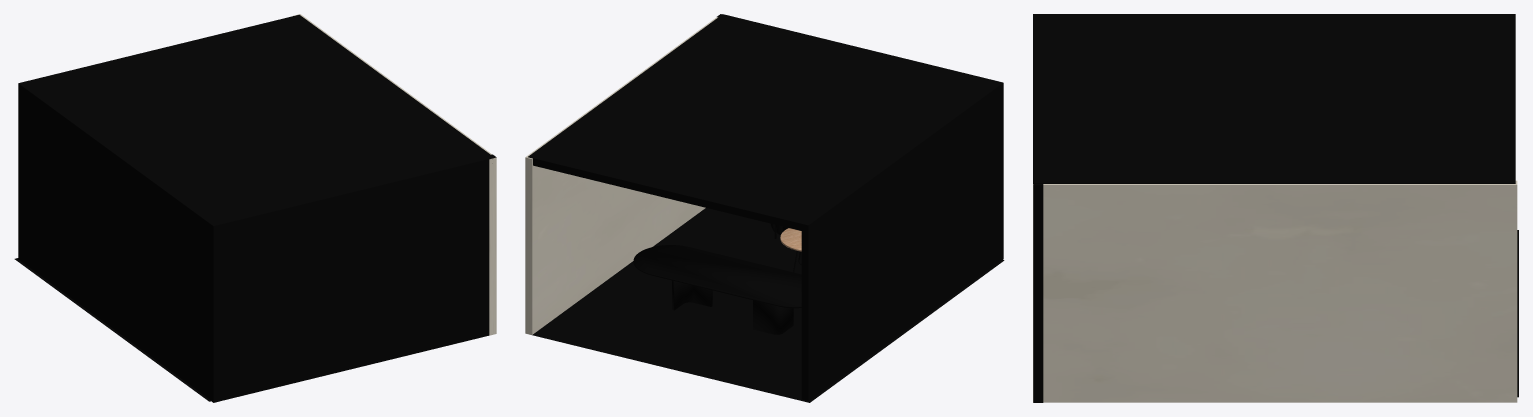
File: AidaRoom.fbx
The picture shows the model from 3 angles, left to right: view 1: azimuth 30°, elevation 25°; view 2: azimuth 150°, elevation 25°; view 3: azimuth 270°, elevation 25°; orthographic projection. The views are drawn at different scales.
Parts seen in each view (by area): view 1: Cube.003; view 2: Cube.003; view 3: Cube.003.
Boxes of the visible parts, bbox=[...] form: Cube.003: bbox=[14, 14, 496, 402]; Cube.003: bbox=[525, 14, 1004, 402]; Cube.003: bbox=[1033, 14, 1518, 402].
Size of the model in its own units: 492 by 291 by 587.
Materials: 41 (10 with a texture image).
